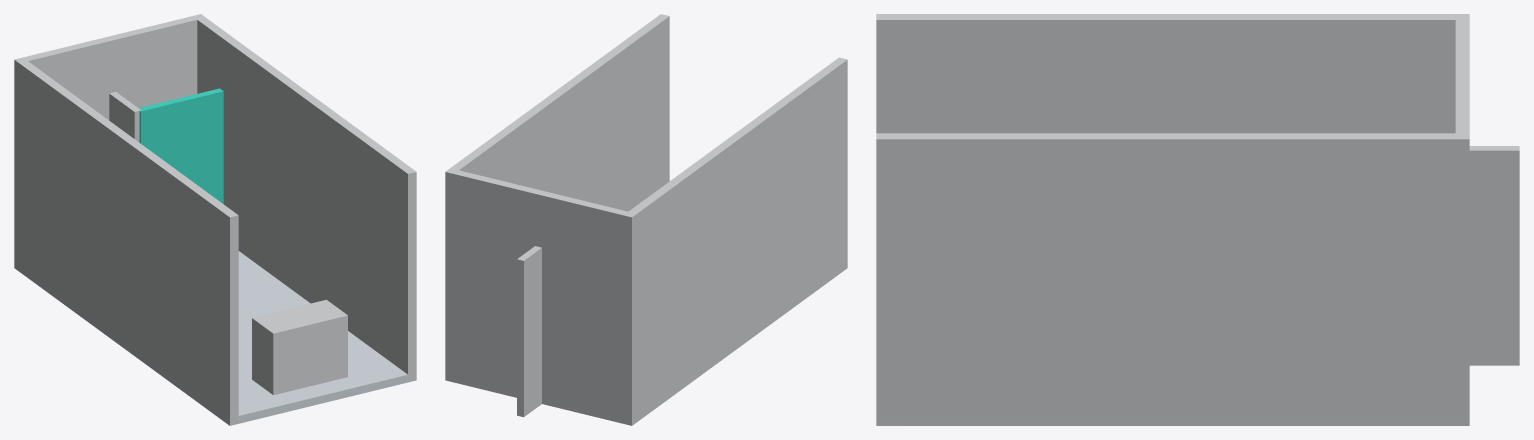
The picture shows the model from 3 angles, left to right: view 1: azimuth 30°, elevation 25°; view 2: azimuth 150°, elevation 25°; view 3: azimuth 270°, elevation 25°; orthographic projection. The views are drawn at different scales.
Parts seen in each view (by area): view 1: Exhibition Booth Concept; view 2: Exhibition Booth Concept; view 3: Exhibition Booth Concept.
Boxes of the visible parts, left/top/right/bottom form: Exhibition Booth Concept: left=14, top=14, right=416, bottom=425; Exhibition Booth Concept: left=445, top=14, right=847, bottom=425; Exhibition Booth Concept: left=876, top=14, right=1519, bottom=425.
Bounding box in the file's own units: 3 × 3.2 × 6.51.
